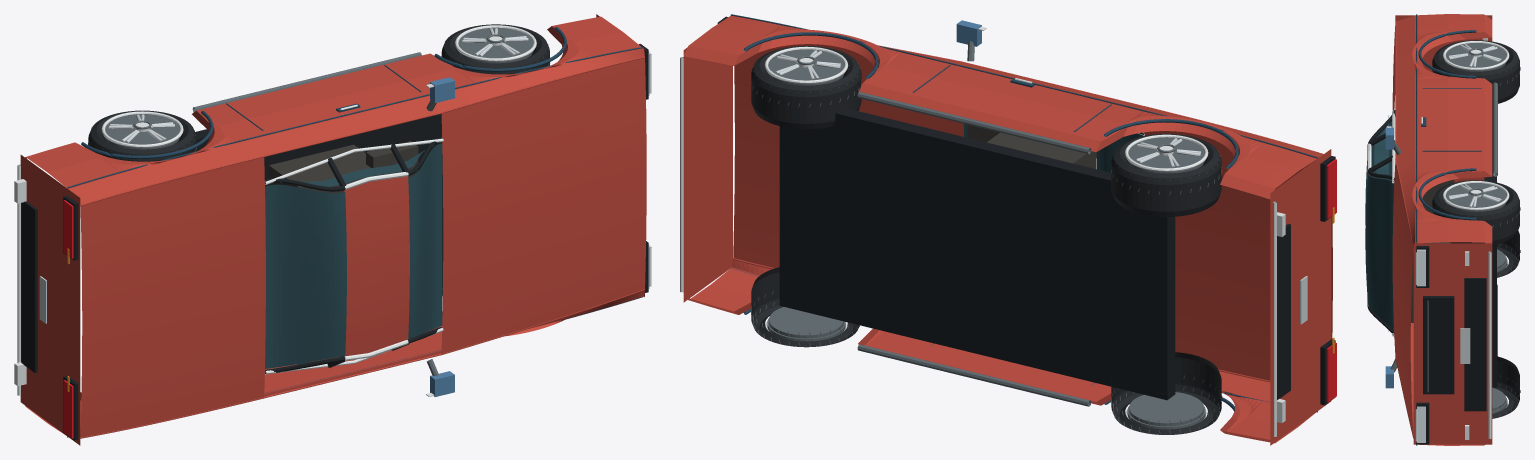
Rendered from Vela_GT.glb.
The picture shows the model from 3 angles, left to right: view 1: azimuth 30°, elevation 25°; view 2: azimuth 150°, elevation 25°; view 3: azimuth 270°, elevation 25°; orthographic projection. The views are drawn at different scales.
Parts seen in each view (by area): view 1: bonnet_crowned, rear_deck_crowned, left_sculpted_fenders_and_doors, rear_windshield, continuous_curved_roof, rear_painted_fascia, front_windshield, right_sculpted_fenders_and_doors, underbody, rear_lower_air_intake, rear_left_wheel_rounded_tire, front_left_wheel_rounded_tire (+16 smaller); view 2: underbody, left_sculpted_fenders_and_doors, rear_deck_crowned, front_painted_fascia, rear_painted_fascia, right_sculpted_fenders_and_doors, bonnet_crowned, rear_left_wheel_rounded_tire, front_left_wheel_rounded_tire, rear_right_wheel_rounded_tire, rear_lower_air_intake, front_right_wheel_rounded_tire (+16 smaller); view 3: left_sculpted_fenders_and_doors, front_painted_fascia, front_windshield, bonnet_crowned, front_main_grille, front_lower_air_intake, front_left_wheel_rounded_tire, rear_left_wheel_rounded_tire, front_right_wheel_rounded_tire, front_left_wheel_wheel_barrel, rear_left_wheel_wheel_barrel, underbody (+25 smaller).
Part boxes in pixels (left/top/right/bottom): bonnet_crowned: left=441, top=58, right=646, bottom=354; rear_deck_crowned: left=80, top=157, right=265, bottom=438; left_sculpted_fenders_and_doors: left=25, top=16, right=644, bottom=204; rear_windshield: left=265, top=184, right=346, bottom=368; continuous_curved_roof: left=344, top=176, right=409, bottom=356; rear_painted_fascia: left=20, top=155, right=80, bottom=445; front_windshield: left=408, top=143, right=442, bottom=338; right_sculpted_fenders_and_doors: left=25, top=290, right=644, bottom=436; underbody: left=178, top=114, right=443, bottom=281; rear_lower_air_intake: left=21, top=201, right=37, bottom=372; rear_left_wheel_rounded_tire: left=88, top=110, right=196, bottom=161; front_left_wheel_rounded_tire: left=441, top=24, right=549, bottom=74; underbody: left=779, top=108, right=1175, bottom=400; left_sculpted_fenders_and_doors: left=684, top=15, right=1322, bottom=199; rear_deck_crowned: left=1144, top=131, right=1332, bottom=380; front_painted_fascia: left=683, top=47, right=732, bottom=302; rear_painted_fascia: left=1270, top=149, right=1331, bottom=445; right_sculpted_fenders_and_doors: left=684, top=260, right=1314, bottom=443; bonnet_crowned: left=733, top=44, right=963, bottom=268; rear_left_wheel_rounded_tire: left=1111, top=133, right=1221, bottom=216; front_left_wheel_rounded_tire: left=751, top=46, right=861, bottom=129; rear_right_wheel_rounded_tire: left=1111, top=352, right=1221, bottom=434; rear_lower_air_intake: left=1277, top=224, right=1290, bottom=399; front_right_wheel_rounded_tire: left=751, top=267, right=858, bottom=347; left_sculpted_fenders_and_doors: left=1396, top=14, right=1492, bottom=247; front_painted_fascia: left=1413, top=243, right=1492, bottom=444; front_windshield: left=1365, top=174, right=1394, bottom=332; bonnet_crowned: left=1392, top=163, right=1413, bottom=436; front_main_grille: left=1423, top=296, right=1454, bottom=394; front_lower_air_intake: left=1464, top=278, right=1486, bottom=411; front_left_wheel_rounded_tire: left=1432, top=180, right=1519, bottom=244; rear_left_wheel_rounded_tire: left=1432, top=40, right=1519, bottom=103; front_right_wheel_rounded_tire: left=1492, top=356, right=1519, bottom=418; front_left_wheel_wheel_barrel: left=1445, top=183, right=1506, bottom=211; rear_left_wheel_wheel_barrel: left=1445, top=43, right=1506, bottom=71; underbody: left=1484, top=95, right=1496, bottom=387.
Size of the model in its own units: 4.62 by 2.32 by 1.29.
